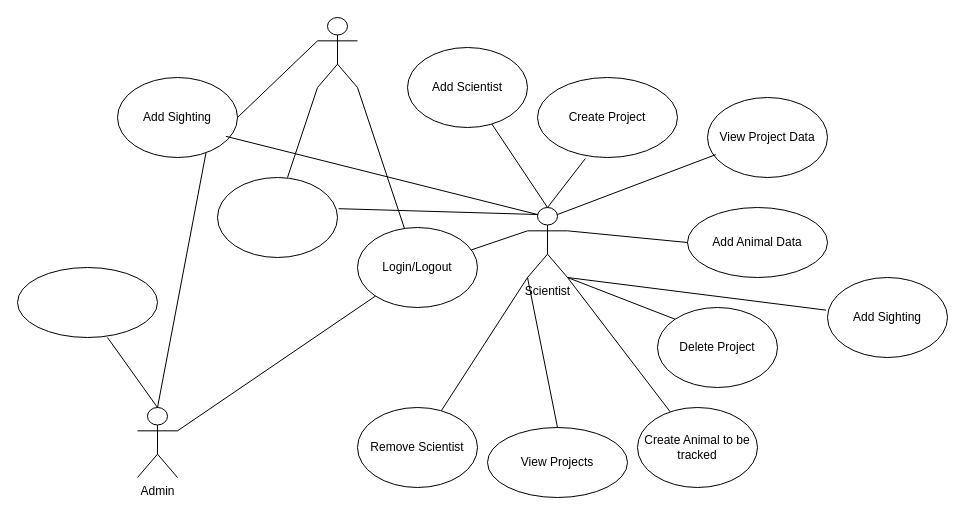
Some shapes in this 965 by 516 pixel diagram are drawn without their labels. The centre of each missing label's shape, as x and y in pixels:
Add User: (87,302)
Contributor: (337,52)
See Sighting: (277,217)
